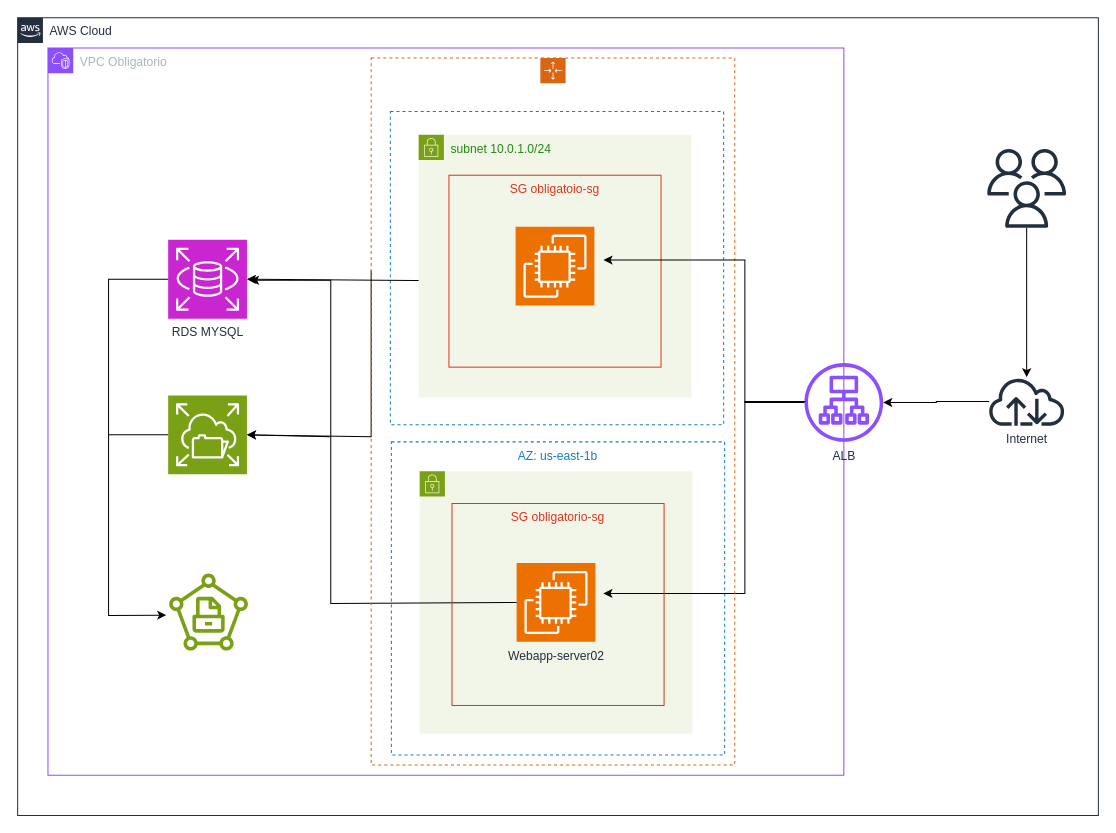
Some shapes in this 1116 by 833 pixel diagram are drawn without their labels. The shapes that lost their labels are listed below. From the top down, each one's box as (x1, y1, x2, y2) in pixels, then its label:
(515, 226, 594, 306): Webapp-server01
(389, 111, 724, 425): AZ: us-east-1a
(370, 57, 735, 765): obligatorio-asg
(167, 394, 247, 474): EFS
(169, 573, 247, 650): BackupServer
(419, 470, 692, 734): subnet 10.0.2.0/24
